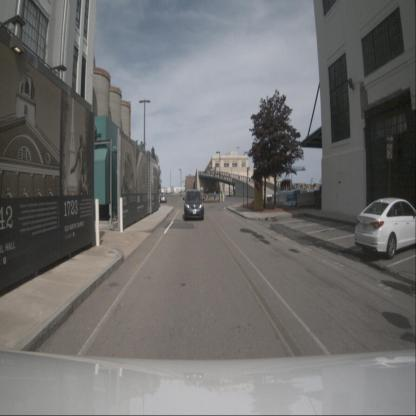vehicle-car: (355, 197, 415, 260), (184, 189, 204, 221), (160, 195, 167, 203)
